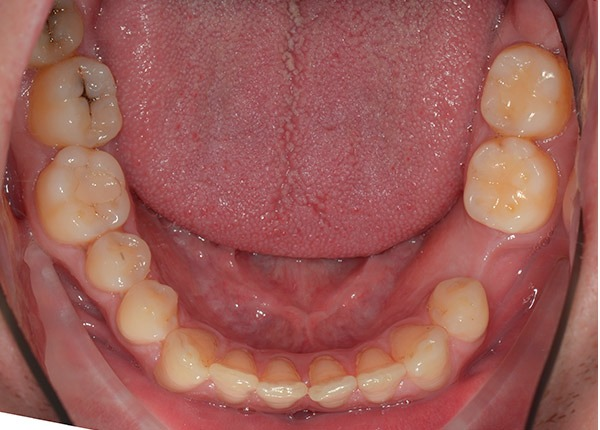LL1BC_healthy: (429, 278, 488, 337)
LL1M_healthy: (466, 139, 557, 230)
LL2BC_decay: (458, 224, 513, 284)
LL2M_healthy: (481, 48, 559, 133)
LLCI_healthy: (311, 360, 355, 406)
LLC_healthy: (394, 326, 449, 387)
LLLI_healthy: (359, 353, 404, 400)
LR1BC_healthy: (120, 282, 176, 341)
LR1M_healthy: (41, 148, 128, 237)
LR2BC_healthy: (87, 232, 150, 289)
LR2M_decay: (35, 60, 118, 145)
LRCI_healthy: (259, 362, 306, 406)
LRC_healthy: (162, 330, 213, 388)
LRLI_healthy: (213, 353, 259, 402)
